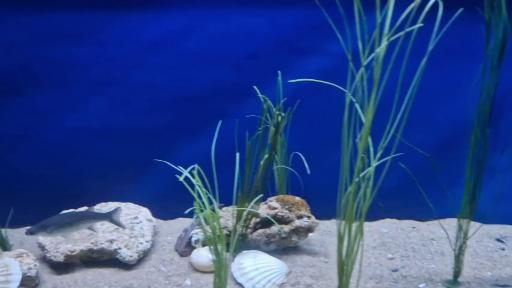Fish: (26, 207, 125, 235), (0, 258, 22, 287)
